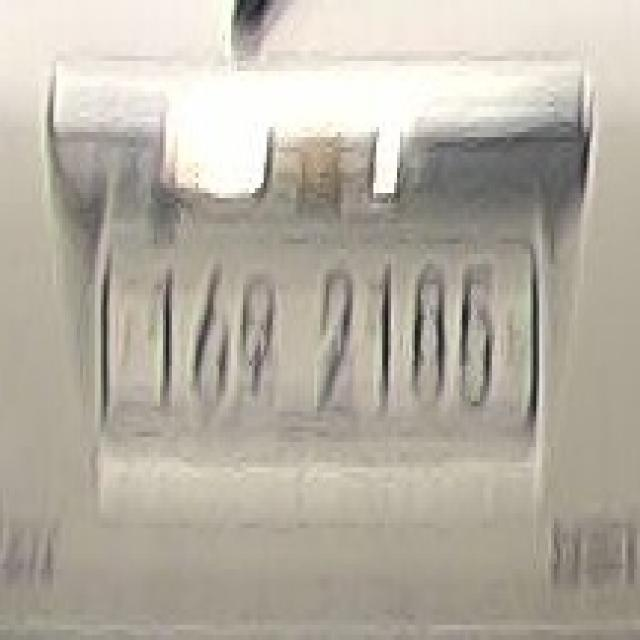1: (142, 259, 190, 411), (358, 254, 403, 401)
2: (314, 259, 362, 417)
5: (456, 249, 498, 416)
6: (193, 259, 237, 411)
8: (406, 249, 450, 411)
license_plate: (95, 218, 545, 452)
o: (237, 259, 284, 411)
